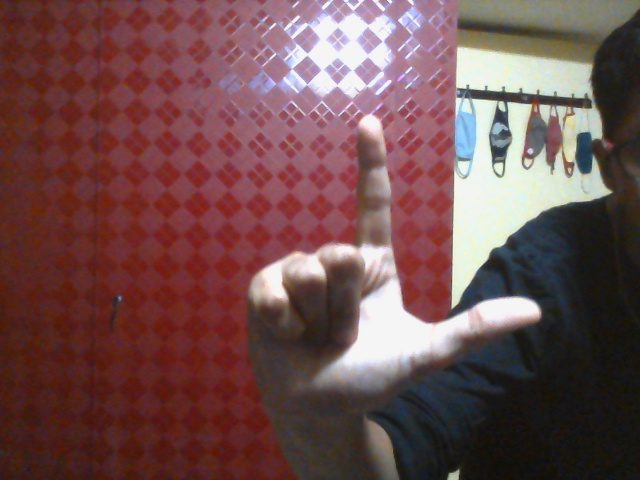L: (244, 113, 544, 411)
